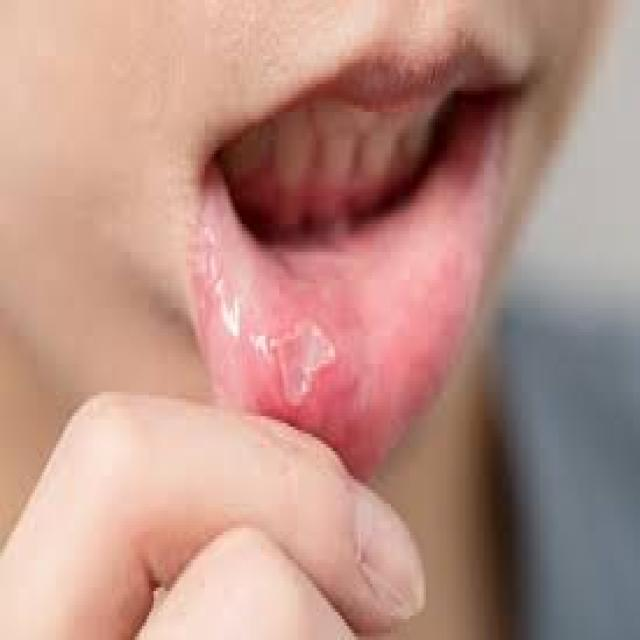processing_area: (201, 98, 494, 468)
ulcer-detection: (260, 298, 360, 426)
